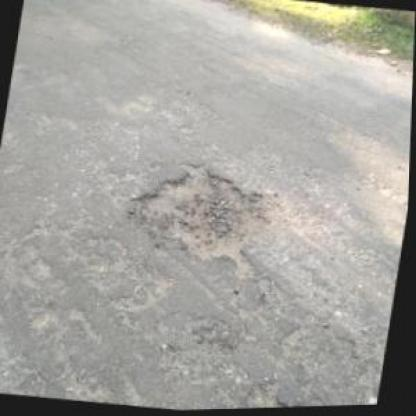pothole: (119, 152, 291, 274), (238, 379, 340, 409)
